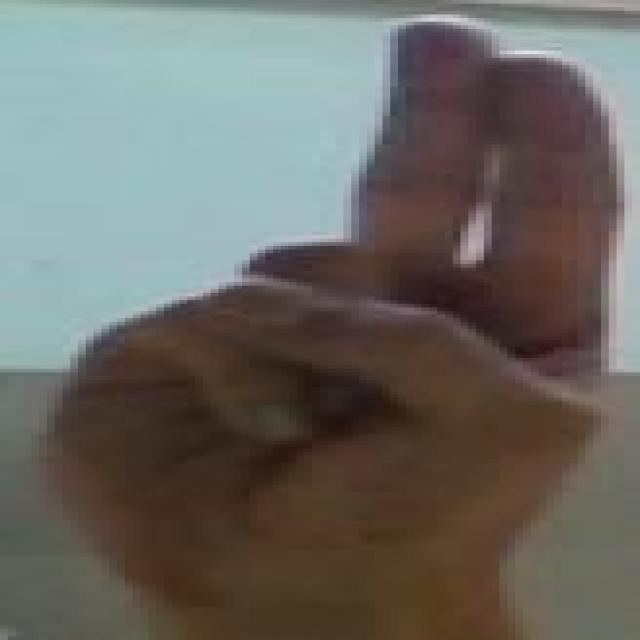U: (8, 5, 624, 615)
